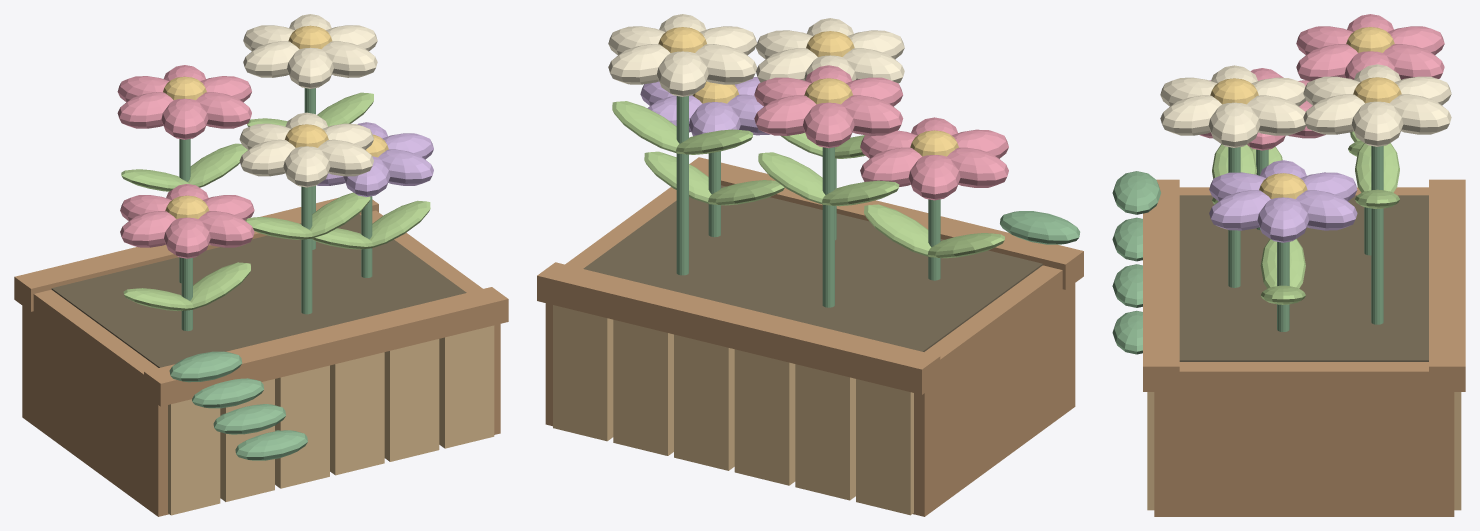
Rendered from WoodenPlanter.fbx.
3 views of the same model, side by side, from view 1: azimuth 30°, elevation 25°; view 2: azimuth 150°, elevation 25°; view 3: azimuth 270°, elevation 25° (orthographic). The views are drawn at different scales.
Visible parts, largest first — view 1: WoodenPlanter_Collection honey oak, WoodenPlanter_Collection pale oak, WoodenPlanter_Collection shadow, WoodenPlanter_Collection ivory, WoodenPlanter_Collection rose, WoodenPlanter_Collection fresh leaf, WoodenPlanter_Collection sage, WoodenPlanter_Collection lavender, WoodenPlanter_Collection warm brass; view 2: WoodenPlanter_Collection honey oak, WoodenPlanter_Collection pale oak, WoodenPlanter_Collection shadow, WoodenPlanter_Collection rose, WoodenPlanter_Collection ivory, WoodenPlanter_Collection fresh leaf, WoodenPlanter_Collection sage, WoodenPlanter_Collection warm brass, WoodenPlanter_Collection lavender; view 3: WoodenPlanter_Collection honey oak, WoodenPlanter_Collection shadow, WoodenPlanter_Collection ivory, WoodenPlanter_Collection sage, WoodenPlanter_Collection lavender, WoodenPlanter_Collection rose, WoodenPlanter_Collection fresh leaf, WoodenPlanter_Collection warm brass, WoodenPlanter_Collection pale oak.
Part boxes in pixels (x1,y1,x2,y2): WoodenPlanter_Collection honey oak: (14,197,508,516); WoodenPlanter_Collection pale oak: (168,325,494,515); WoodenPlanter_Collection shadow: (51,214,466,367); WoodenPlanter_Collection ivory: (239,14,377,187); WoodenPlanter_Collection rose: (117,65,254,258); WoodenPlanter_Collection fresh leaf: (121,92,430,311); WoodenPlanter_Collection sage: (169,88,372,460); WoodenPlanter_Collection lavender: (317,122,433,196); WoodenPlanter_Collection warm brass: (163,25,388,218); WoodenPlanter_Collection honey oak: (537,157,1083,516); WoodenPlanter_Collection pale oak: (553,305,913,515); WoodenPlanter_Collection shadow: (583,185,1042,351); WoodenPlanter_Collection rose: (754,65,1008,200); WoodenPlanter_Collection ivory: (608,14,904,96); WoodenPlanter_Collection fresh leaf: (612,101,1004,258); WoodenPlanter_Collection sage: (676,96,1080,307); WoodenPlanter_Collection warm brass: (658,27,958,156); WoodenPlanter_Collection lavender: (640,77,770,136); WoodenPlanter_Collection honey oak: (1143,179,1465,516); WoodenPlanter_Collection shadow: (1179,195,1428,361); WoodenPlanter_Collection ivory: (1160,64,1451,147); WoodenPlanter_Collection sage: (1112,146,1383,354); WoodenPlanter_Collection lavender: (1209,160,1357,242); WoodenPlanter_Collection rose: (1200,14,1444,150); WoodenPlanter_Collection fresh leaf: (1212,131,1399,304); WoodenPlanter_Collection warm brass: (1210,27,1401,198); WoodenPlanter_Collection pale oak: (1147,392,1461,510).
Size of the model in its own units: 127 by 123 by 101.
